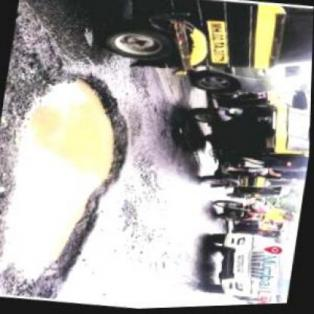Hueco: (0, 62, 143, 309)
